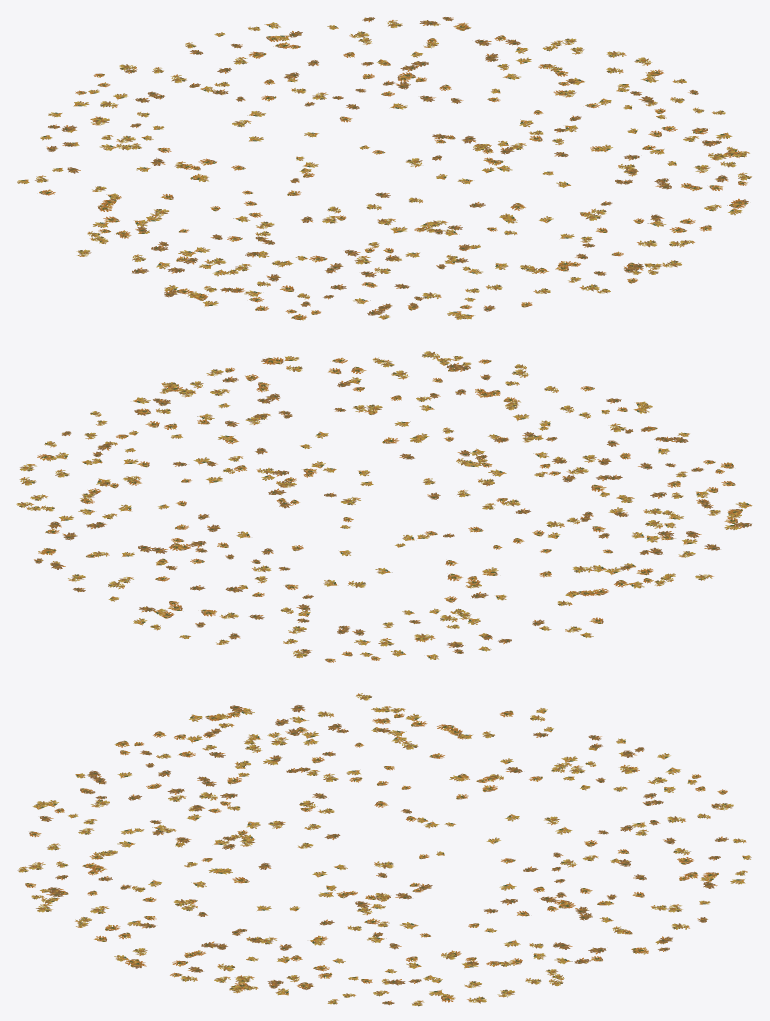
The model's file is chataignier_adulte_b.fbx.
3 views of the same model, one above another, from view 1: azimuth 30°, elevation 25°; view 2: azimuth 150°, elevation 25°; view 3: azimuth 270°, elevation 25° (orthographic).
Visible parts, largest first — view 1: chataignier_adulte_b_feuilles_sol; view 2: chataignier_adulte_b_feuilles_sol; view 3: chataignier_adulte_b_feuilles_sol.
Boxes of the visible parts, x1=… form: chataignier_adulte_b_feuilles_sol: x1=17, y1=17, x2=751, y2=320; chataignier_adulte_b_feuilles_sol: x1=16, y1=351, x2=752, y2=662; chataignier_adulte_b_feuilles_sol: x1=17, y1=693, x2=751, y2=1006.
Size of what is drawn, in the model's own units: 16.3 by 0.00599 by 16.27.
